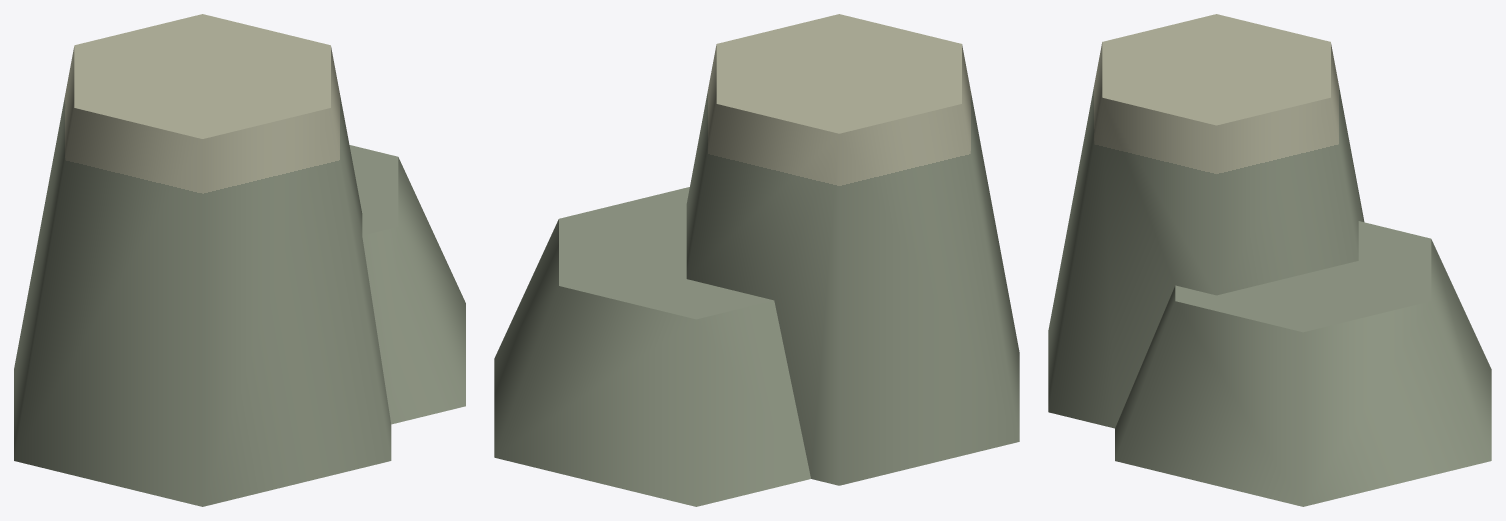
The model's file is river-stones-loose-stones.glb.
3 renders of one model, left to right at view 1: azimuth 30°, elevation 25°; view 2: azimuth 150°, elevation 25°; view 3: azimuth 270°, elevation 25°, orthographic. The views are drawn at different scales.
Parts seen in each view (by area): view 1: river-stones-loose-stones runtime mesh; view 2: river-stones-loose-stones runtime mesh; view 3: river-stones-loose-stones runtime mesh.
Part boxes in pixels (box(x1,y1,x2,y2)): river-stones-loose-stones runtime mesh: box(14, 14, 465, 506); river-stones-loose-stones runtime mesh: box(494, 14, 1019, 506); river-stones-loose-stones runtime mesh: box(1048, 14, 1491, 506).
Bounding box in the file's own units: 0.3406 × 0.22 × 0.293.
Materials: 1 (1 with a texture image).
